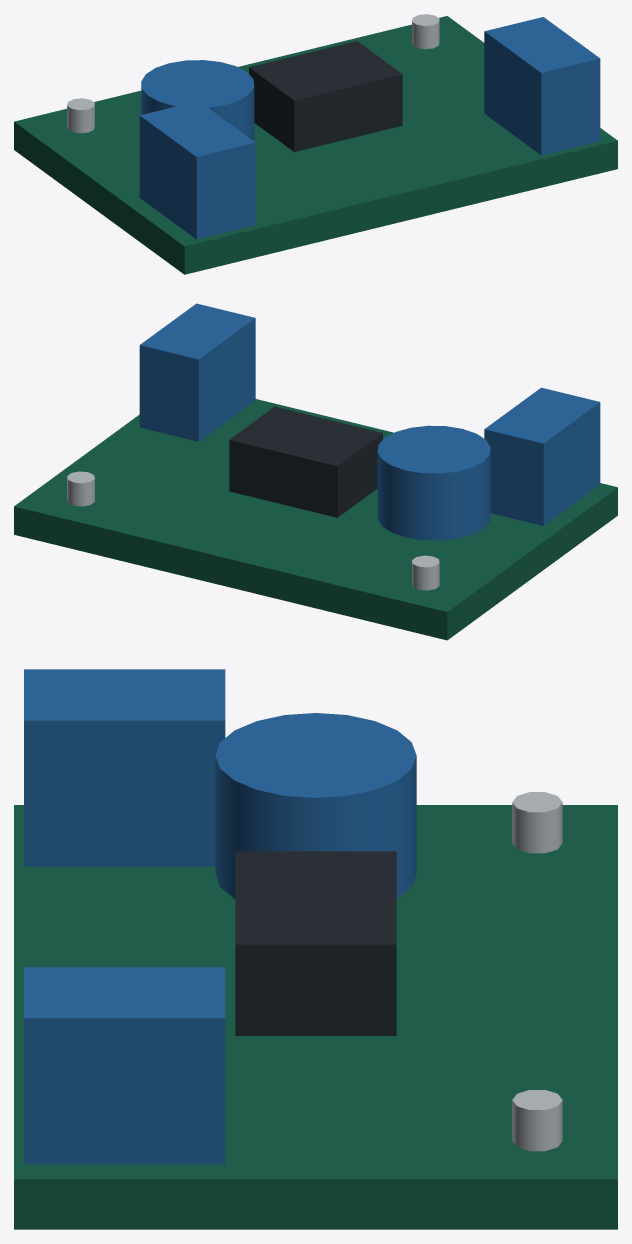
Rendered from catalogue-comparator.glb.
3 views of the same model, one above another, from view 1: azimuth 30°, elevation 25°; view 2: azimuth 150°, elevation 25°; view 3: azimuth 270°, elevation 25° (orthographic). The views are drawn at different scales.
Size of the model in its own units: 0.88 by 0.2175 by 0.6.
